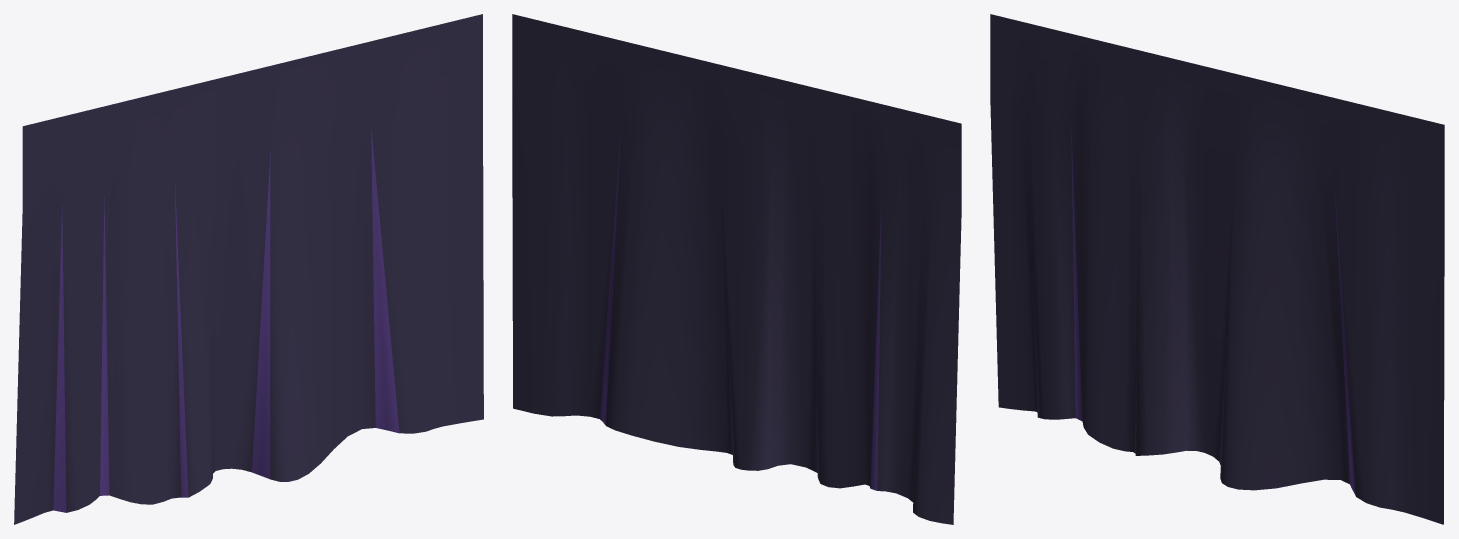
File: SM_curtain.fbx
3 renders of one model, left to right at view 1: azimuth 30°, elevation 25°; view 2: azimuth 150°, elevation 25°; view 3: azimuth 330°, elevation 25°, orthographic. The views are drawn at different scales.
Visible parts, largest first — view 1: Cylinder.005; view 2: Cylinder.005; view 3: Cylinder.005.
Boxes of the visible parts, x1,y1,x2,y2 form: Cylinder.005: (14,14,483,524); Cylinder.005: (512,14,961,524); Cylinder.005: (990,14,1444,524).
Bounding box in the file's own units: 279 × 236 × 24.82.
